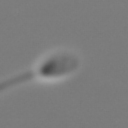normal: (1, 67, 33, 93)
